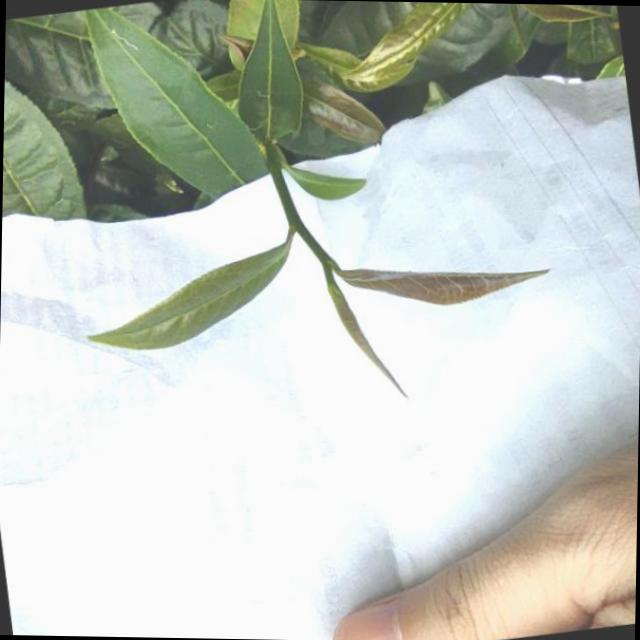Stem: (285, 209, 302, 227)
